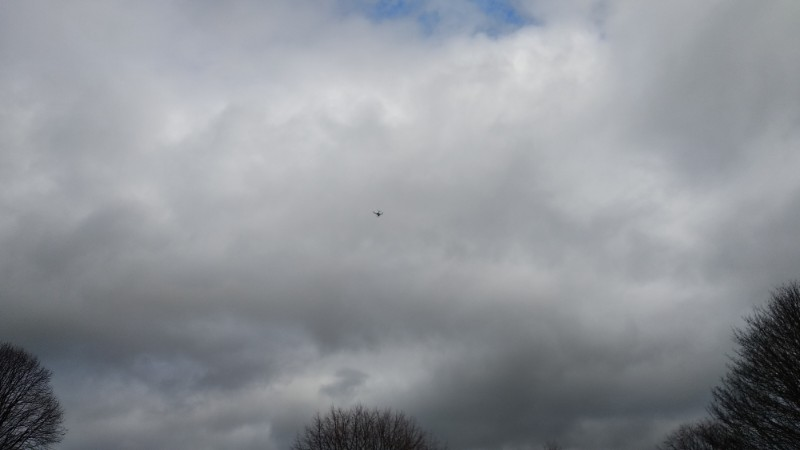drone: (373, 209, 383, 217)
